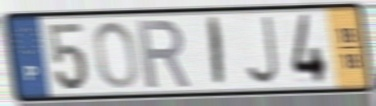4: (291, 12, 329, 87)
5: (45, 20, 90, 92)
I: (207, 15, 226, 89)
J: (242, 15, 281, 88)
O: (92, 19, 140, 91)
R: (134, 18, 193, 91)
